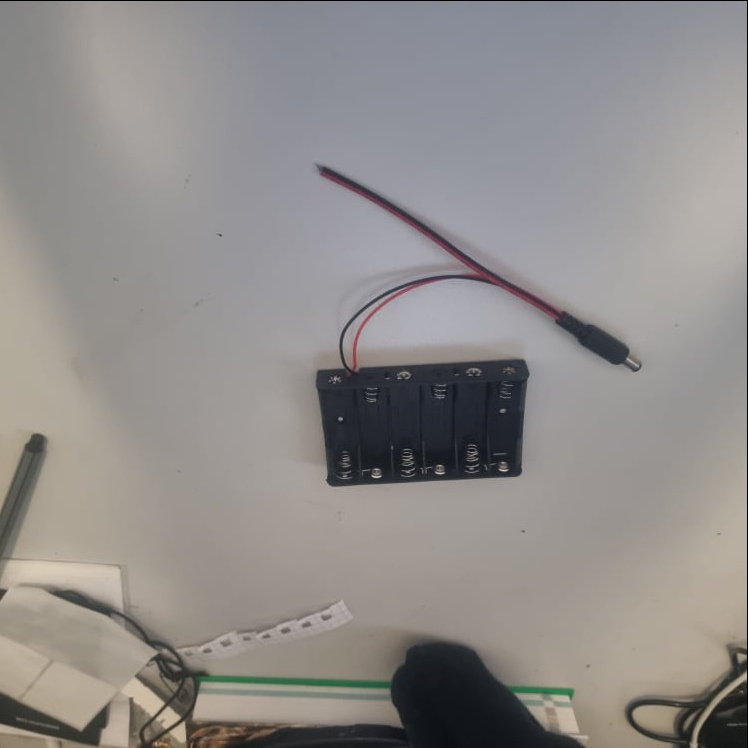BATTERY BOX: (316, 357, 532, 487)
